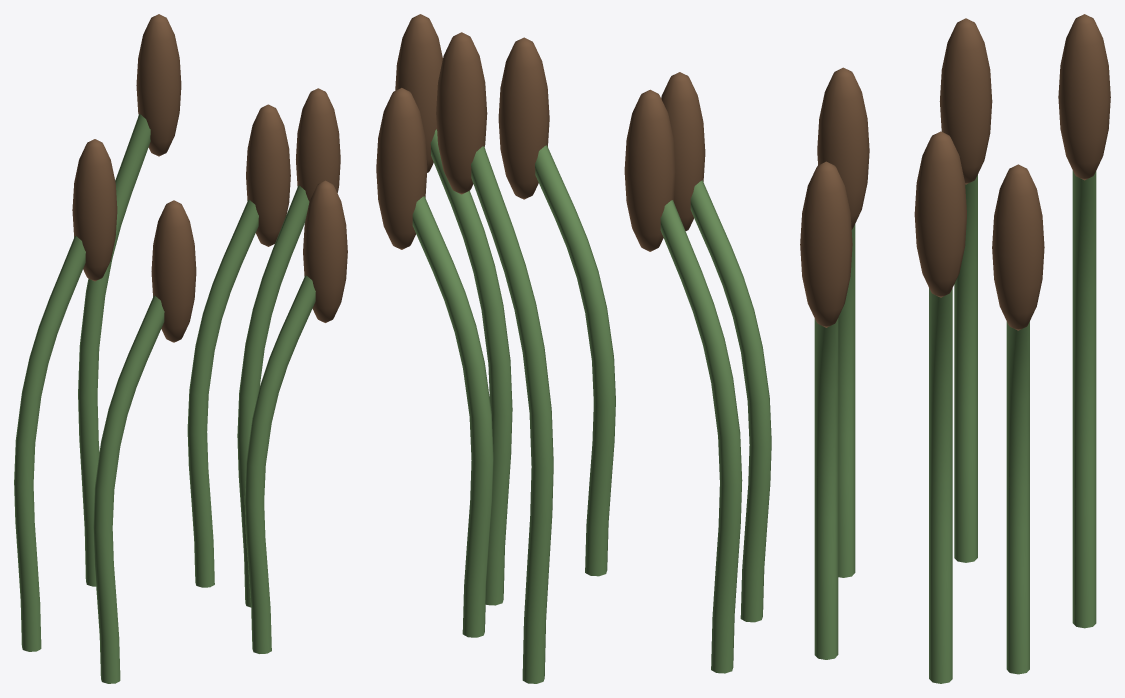
Rendered from reeds.glb.
3 renders of one model, left to right at view 1: azimuth 30°, elevation 25°; view 2: azimuth 150°, elevation 25°; view 3: azimuth 270°, elevation 25°, orthographic. The views are drawn at different scales.
Visible parts, largest first — view 1: reeds_World_Mesh; view 2: reeds_World_Mesh; view 3: reeds_World_Mesh.
Part boxes in pixels (x1,y1,x2,y2): reeds_World_Mesh: (14,14,347,683); reeds_World_Mesh: (376,14,771,683); reeds_World_Mesh: (800,14,1110,683).
Size of the model in its own units: 0.6407 by 1.09 by 0.4738.
